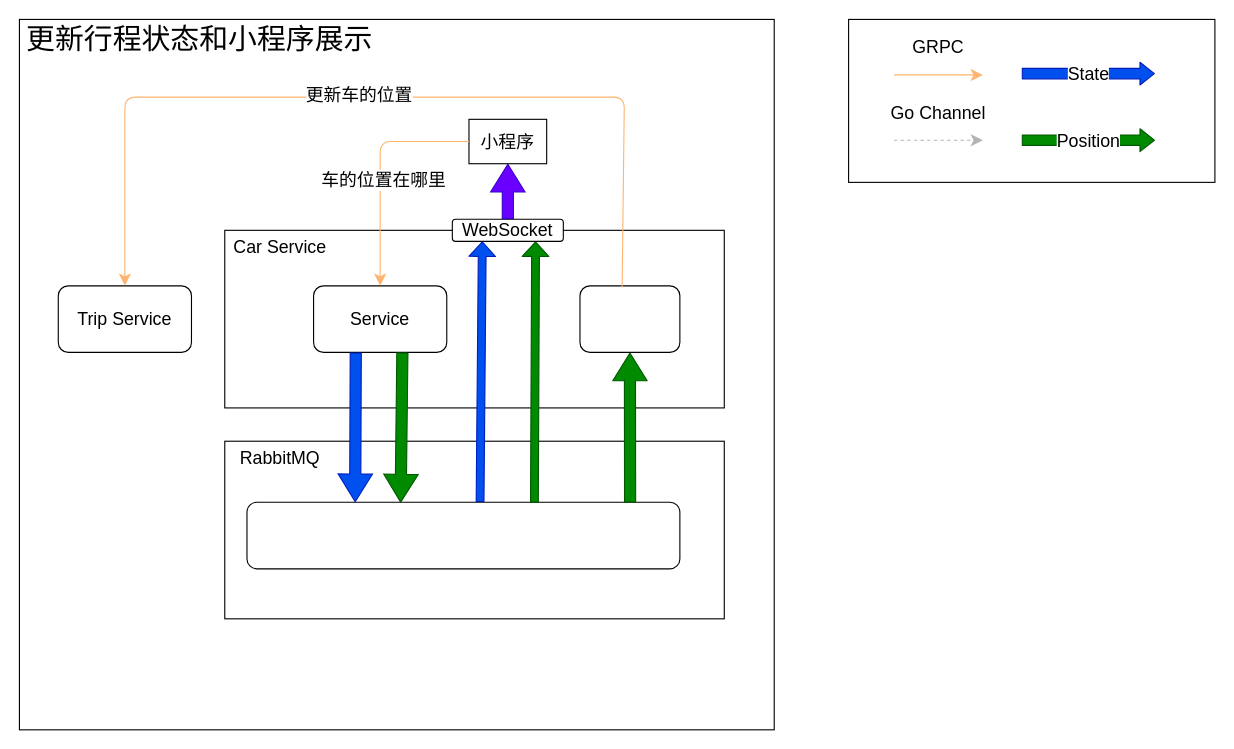
Image size: 1234x749. Some labels were removed from this diagram. Each missing label, with the centre of its shape:
"Coolcar" goes at (x=463, y=535).
"Trip Updator" goes at (x=629, y=318).
